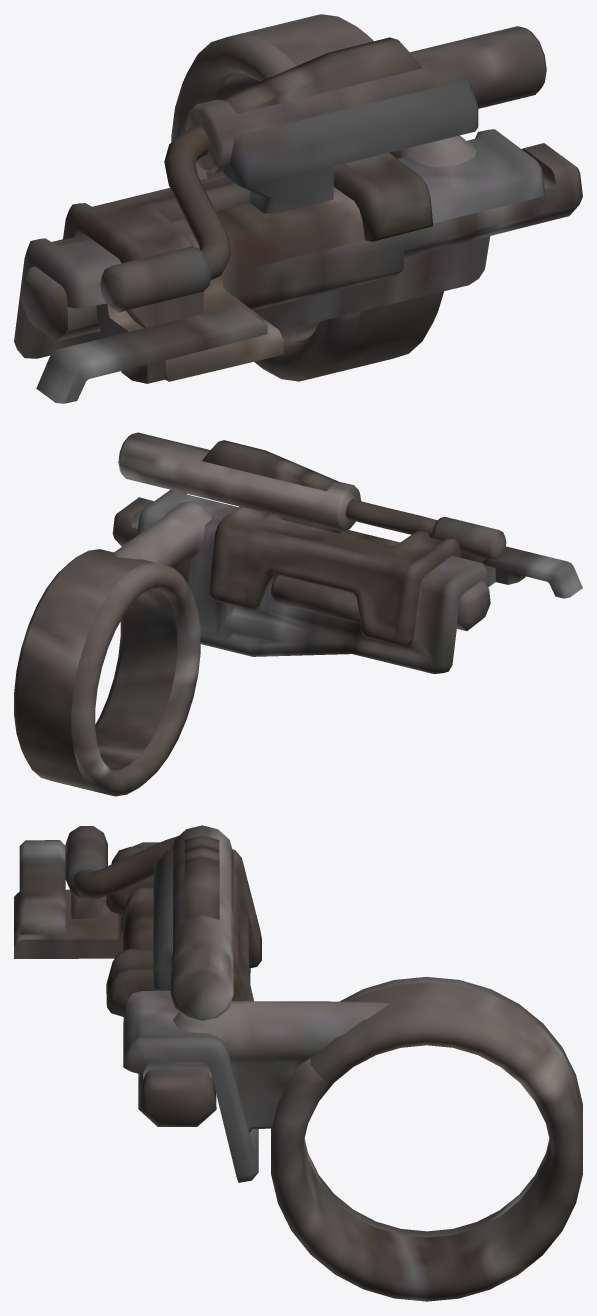
The model's file is HeavyWeapons_Vladof_Scope_1.obj.
3 views of the same model, one above another, from view 1: azimuth 30°, elevation 25°; view 2: azimuth 150°, elevation 25°; view 3: azimuth 270°, elevation 25° (orthographic). The views are drawn at different scales.
Visible parts, largest first — view 1: Scope_1_base_SK_HW_VLA.489, Scope_1_aid_1_SK_HW_VLA.488, Scope_1_aperture_SK_HW_VLA.490, Scope_1_aid_3_SK_HW_VLA.491, Scope_1_aid_2_SK_HW_VLA.492; view 2: Scope_1_base_SK_HW_VLA.489, Scope_1_aperture_SK_HW_VLA.490, Scope_1_aid_1_SK_HW_VLA.488, Scope_1_aid_3_SK_HW_VLA.491, Scope_1_aid_2_SK_HW_VLA.492; view 3: Scope_1_aperture_SK_HW_VLA.490, Scope_1_base_SK_HW_VLA.489, Scope_1_aid_1_SK_HW_VLA.488, Scope_1_aid_2_SK_HW_VLA.492, Scope_1_aid_3_SK_HW_VLA.491.
Part boxes in pixels (x1=…): Scope_1_base_SK_HW_VLA.489: x1=14, y1=129, x2=582, y2=403; Scope_1_aid_1_SK_HW_VLA.488: x1=186, y1=26, x2=546, y2=214; Scope_1_aperture_SK_HW_VLA.490: x1=171, y1=14, x2=443, y2=381; Scope_1_aid_3_SK_HW_VLA.491: x1=100, y1=246, x2=211, y2=327; Scope_1_aid_2_SK_HW_VLA.492: x1=164, y1=125, x2=231, y2=280; Scope_1_base_SK_HW_VLA.489: x1=112, y1=489, x2=582, y2=673; Scope_1_aperture_SK_HW_VLA.490: x1=14, y1=549, x2=200, y2=796; Scope_1_aid_1_SK_HW_VLA.488: x1=118, y1=432, x2=361, y2=533; Scope_1_aid_3_SK_HW_VLA.491: x1=431, y1=517, x2=506, y2=564; Scope_1_aid_2_SK_HW_VLA.492: x1=345, y1=499, x2=436, y2=537; Scope_1_aperture_SK_HW_VLA.490: x1=271, y1=976, x2=582, y2=1301; Scope_1_base_SK_HW_VLA.489: x1=14, y1=840, x2=389, y2=1182; Scope_1_aid_1_SK_HW_VLA.488: x1=153, y1=825, x2=233, y2=1021; Scope_1_aid_2_SK_HW_VLA.492: x1=73, y1=836, x2=178, y2=898; Scope_1_aid_3_SK_HW_VLA.491: x1=65, y1=826, x2=107, y2=918.
Size of the model in its own units: 17.61 by 11.85 by 16.38.
